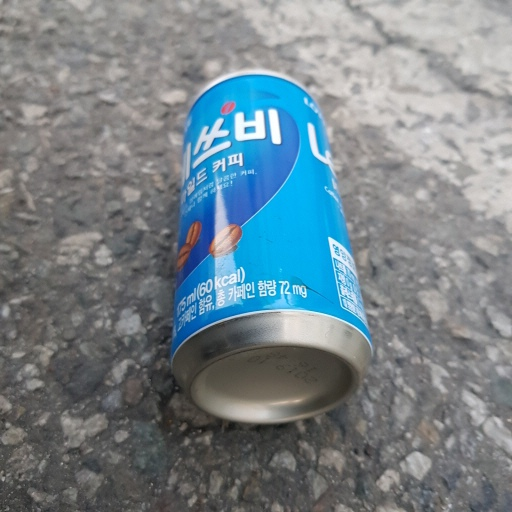Metal_0: (166, 66, 377, 426)
